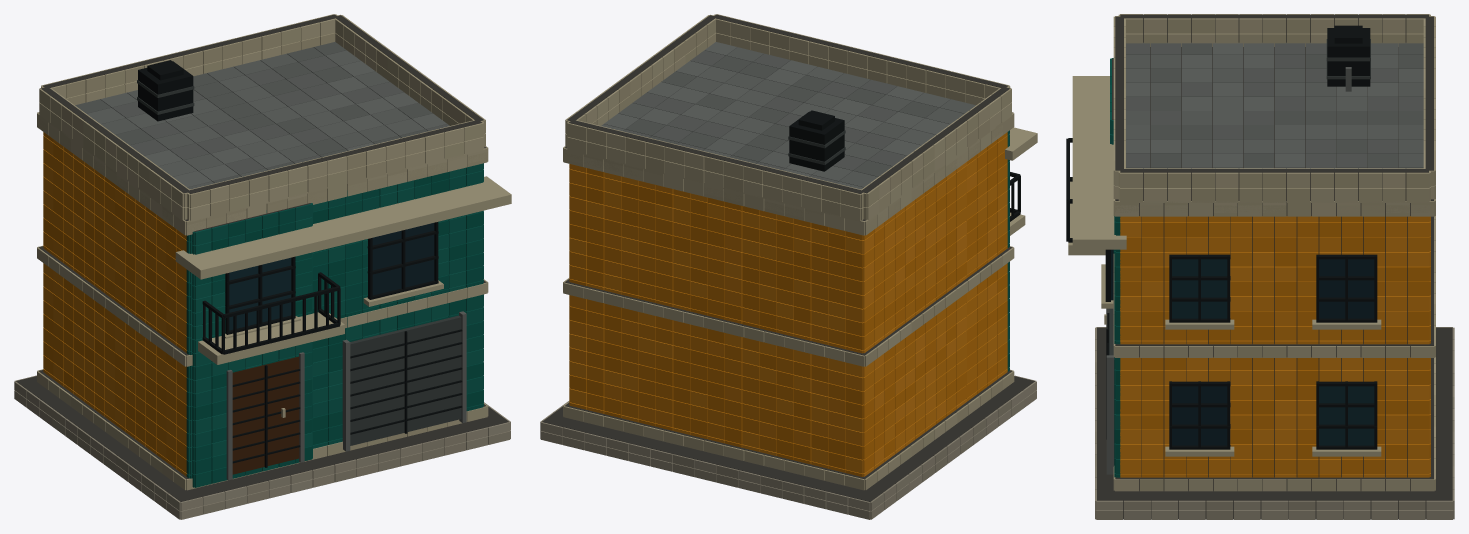
File: SM_Mapa_049.fbx
The picture shows the model from 3 angles, left to right: view 1: azimuth 30°, elevation 25°; view 2: azimuth 150°, elevation 25°; view 3: azimuth 270°, elevation 25°; orthographic projection. The views are drawn at different scales.
Parts seen in each view (by area): view 1: SM_Mapa_049; view 2: SM_Mapa_049; view 3: SM_Mapa_049.
Boxes of the visible parts, x1,y1,x2,y2 form: SM_Mapa_049: [14, 14, 511, 519]; SM_Mapa_049: [540, 14, 1037, 519]; SM_Mapa_049: [1066, 14, 1454, 519].
Bounding box in the file's own units: 8 × 7.53 × 7.88.
